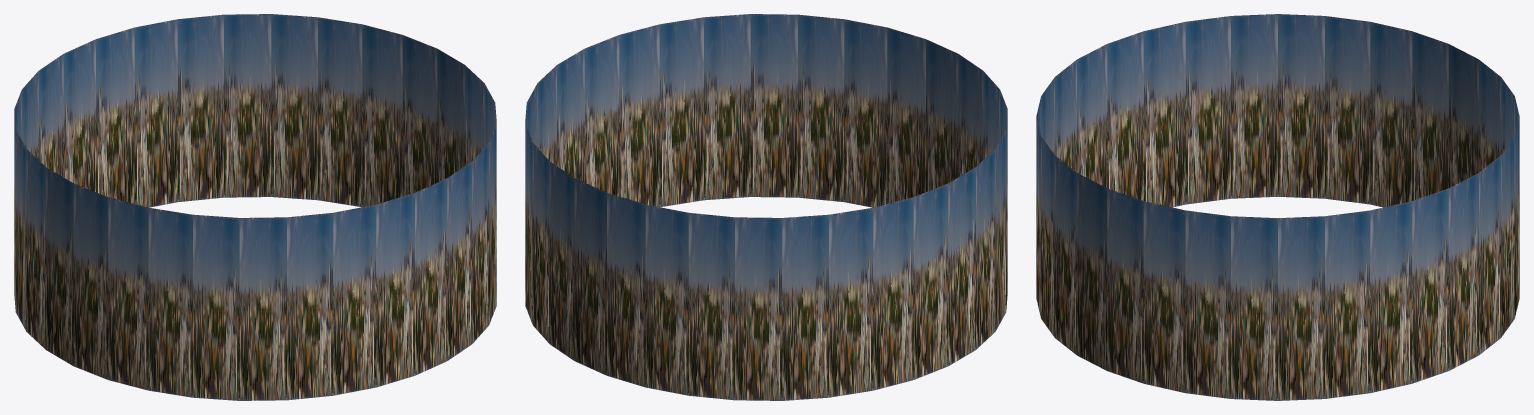
Rendered from mosc.obj.
The picture shows the model from 3 angles, left to right: view 1: azimuth 30°, elevation 25°; view 2: azimuth 150°, elevation 25°; view 3: azimuth 270°, elevation 25°; orthographic projection.
Visible parts, largest first — view 1: Circle_Circle.001; view 2: Circle_Circle.001; view 3: Circle_Circle.001.
Boxes of the visible parts, <box> form: Circle_Circle.001: <box>14,14,496,400</box>; Circle_Circle.001: <box>525,14,1007,400</box>; Circle_Circle.001: <box>1036,14,1519,400</box>.
Size of the model in its own units: 12 by 5.01 by 12.
